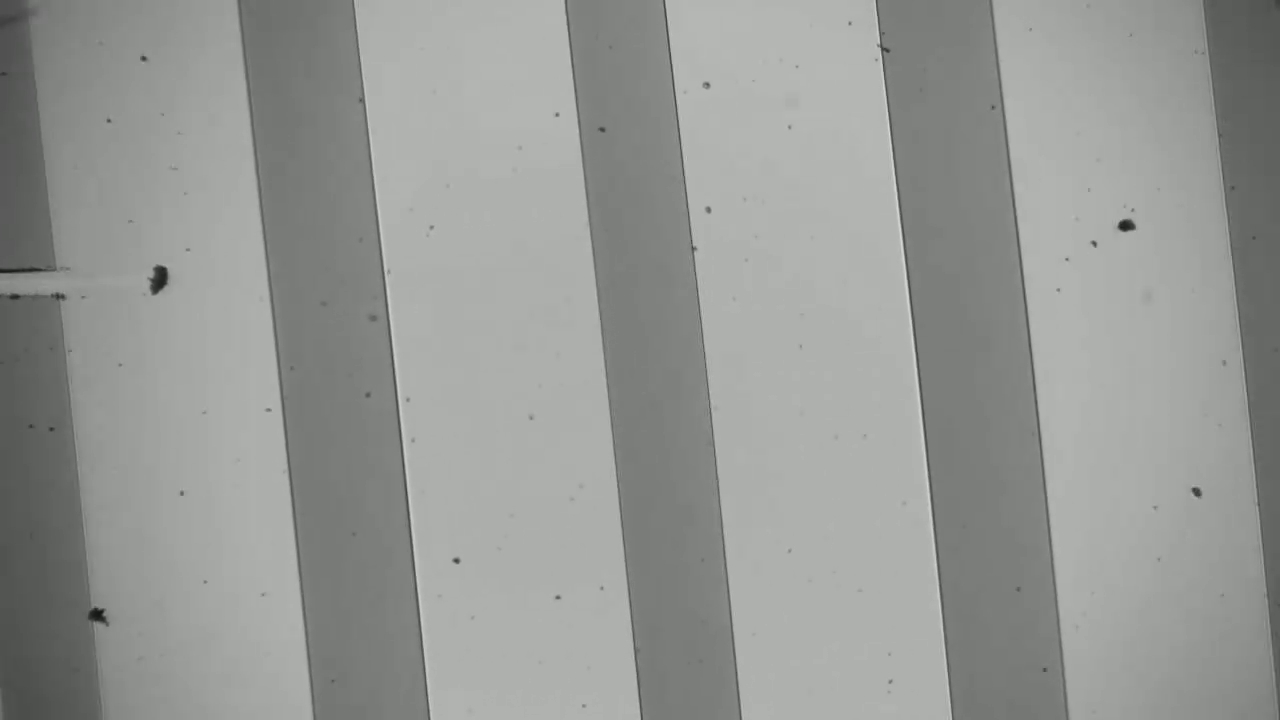Short_circuit: (1, 250, 107, 321)
